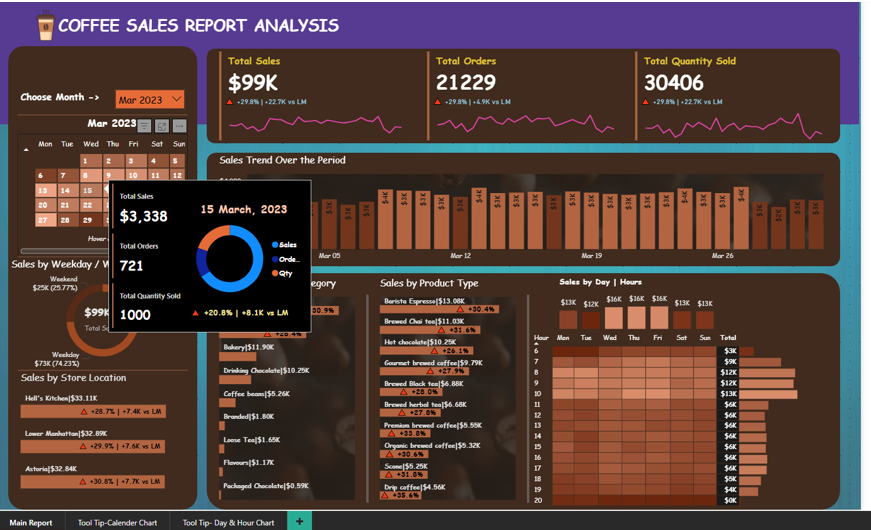

What the dashboard file says about the page in this screenshot:
{"tool":"powerbi","page":{"name":"Tool Tip-Calender Chart","canvas":[320,240],"ordinal":1},"visuals":[{"type":"cardVisual","fields":{"Data":["Transactions.Total Sales","Transactions.Total Orders","Transactions.Total Quantity Sold"]},"box":[0,0,144,240],"z":0},{"type":"donutChart","fields":{"Y":["Transactions.Total Sales","Transactions.Total Orders","Transactions.Total Quantity Sold"]},"box":[120,40,200,168],"z":1000},{"type":"cardVisual","fields":{"Data":["Min(Date Table.Date)"]},"box":[128,8,184,56],"z":2000},{"type":"cardVisual","fields":{"Data":["Transactions.MoM Growth & Diff Sales"]},"box":[112,176,208,56],"z":3000}]}

Visuals, with their boxes on the page's 320x240 design canvas (x1, y1, x2, y2). These are canvas units, not pixel positions in the 871x530 screenshot, which may show the page scaled, cropped or inside an application window:
cardVisual - Transactions.Total Sales x Transactions.Total Orders: detection(0, 0, 144, 240)
donutChart - Transactions.Total Sales x Transactions.Total Orders: detection(120, 40, 320, 208)
cardVisual - Min(Date Table.Date): detection(128, 8, 312, 64)
cardVisual - Transactions.MoM Growth & Diff Sales: detection(112, 176, 320, 232)
